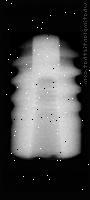DENTSPLY: (10, 32, 82, 159)
